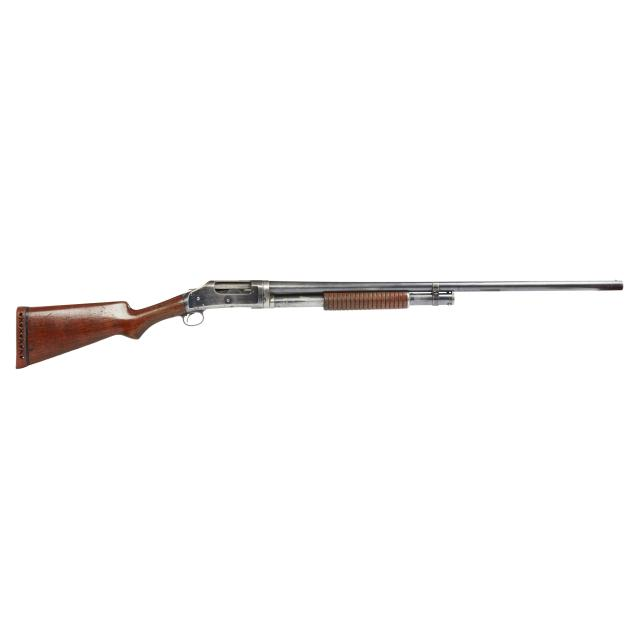ShotGun: (15, 280, 625, 368)
